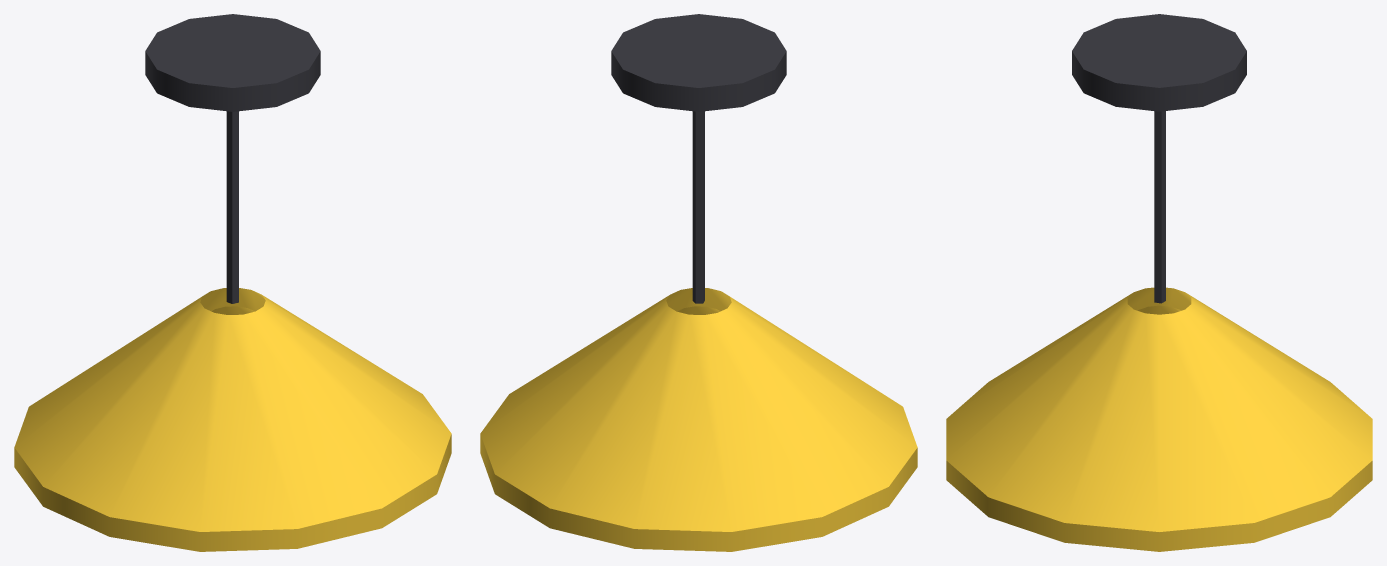
The model's file is CeilingLamp.fbx.
The picture shows the model from 3 angles, left to right: view 1: azimuth 30°, elevation 25°; view 2: azimuth 150°, elevation 25°; view 3: azimuth 270°, elevation 25°; orthographic projection.
Visible parts, largest first — view 1: CeilingLamp; view 2: CeilingLamp; view 3: CeilingLamp.
Part boxes in pixels (bbox=[...]): CeilingLamp: bbox=[14, 14, 451, 551]; CeilingLamp: bbox=[480, 14, 917, 551]; CeilingLamp: bbox=[946, 14, 1372, 551].
Bounding box in the file's own units: 2 × 2.08 × 1.95.
1 material, 1 textured.
